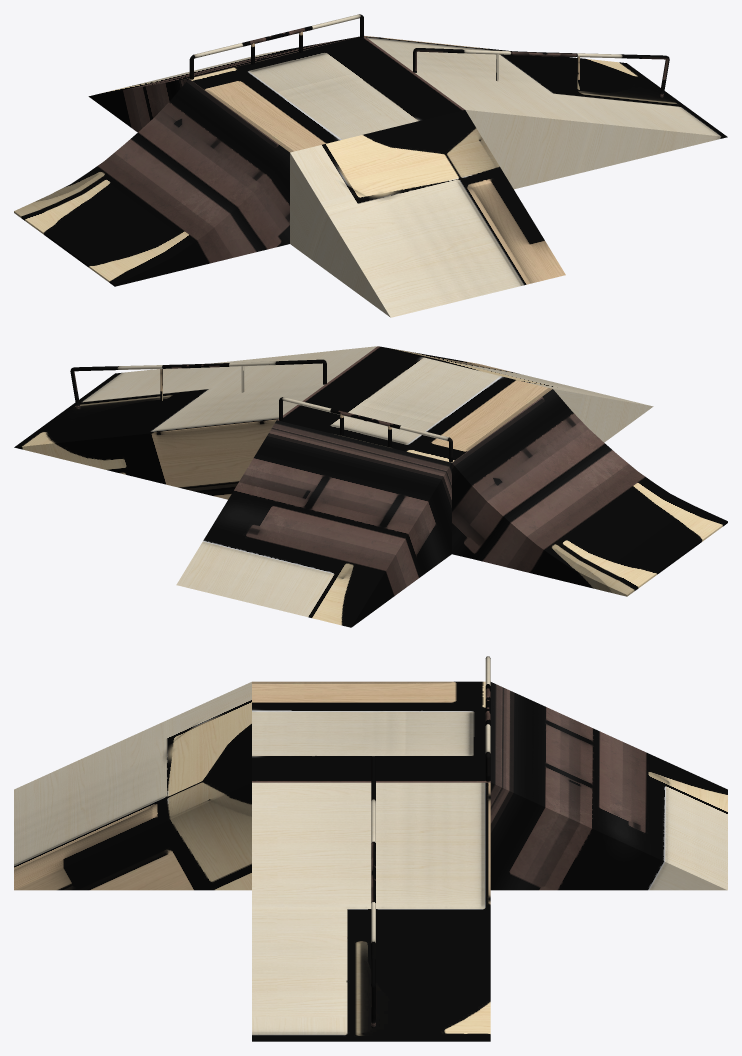
Rendered from Ramp01.fbx.
3 renders of one model, top to bottom at view 1: azimuth 30°, elevation 25°; view 2: azimuth 150°, elevation 25°; view 3: azimuth 270°, elevation 25°, orthographic. The views are drawn at different scales.
Visible parts, largest first — view 1: Ramp01; view 2: Ramp01; view 3: Ramp01.
Part boxes in pixels (x1,y1,x2,y2): Ramp01: [14, 14, 727, 317]; Ramp01: [14, 346, 727, 627]; Ramp01: [14, 656, 727, 1041].
Size of the model in its own units: 7 by 1.25 by 5.98.
